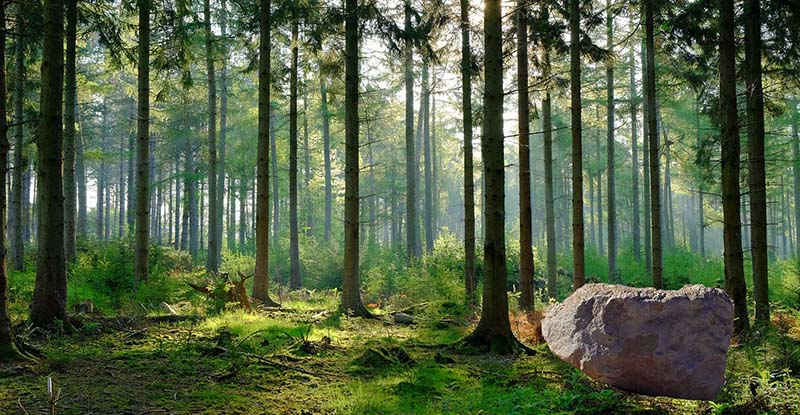Rocks: (534, 278, 738, 405)
